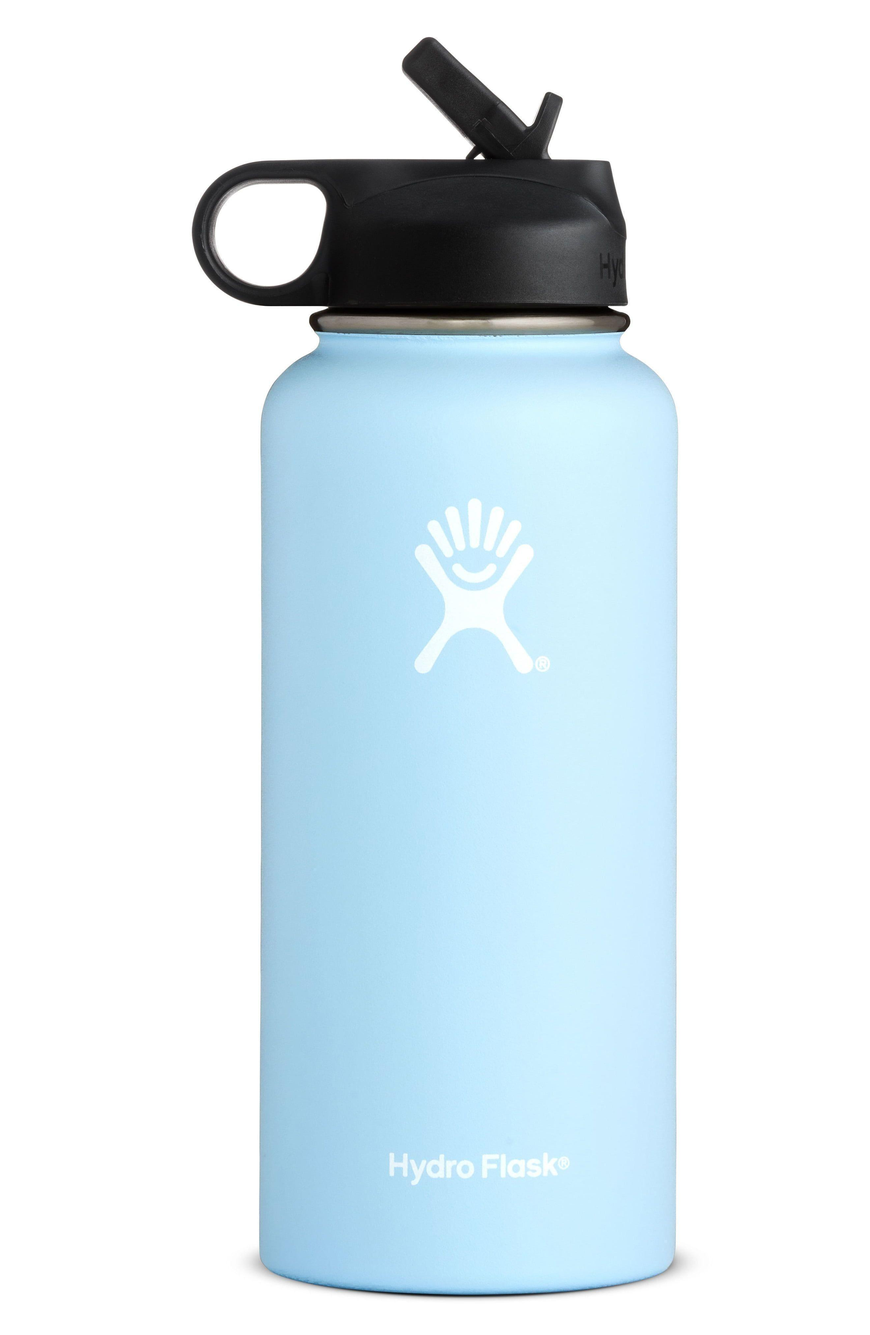gym bottle: (192, 30, 692, 1304)
